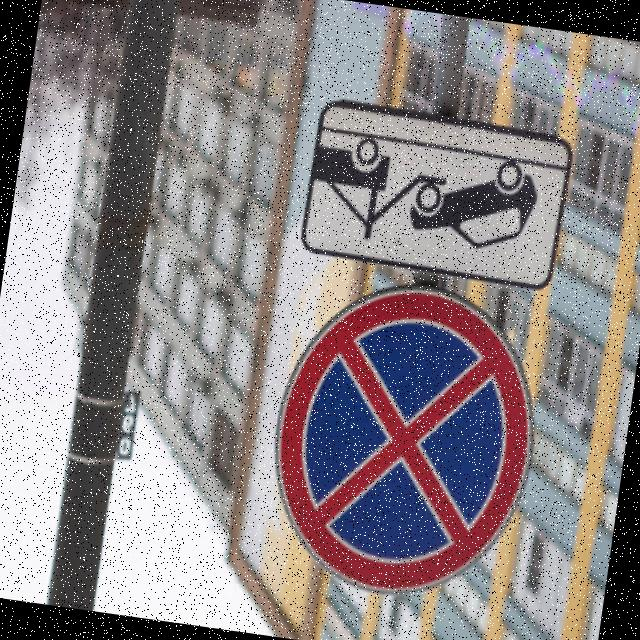no_parking: (251, 267, 560, 622)
